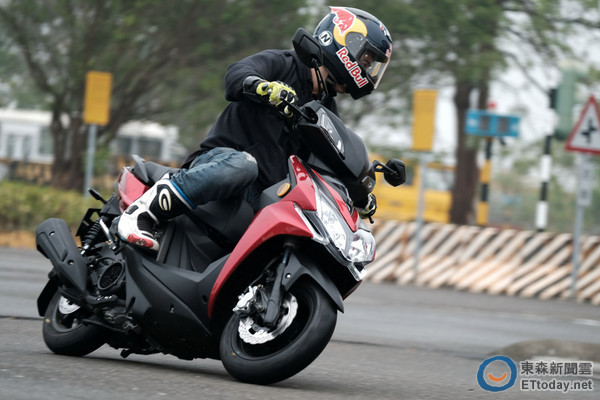helmet: (310, 13, 392, 83)
